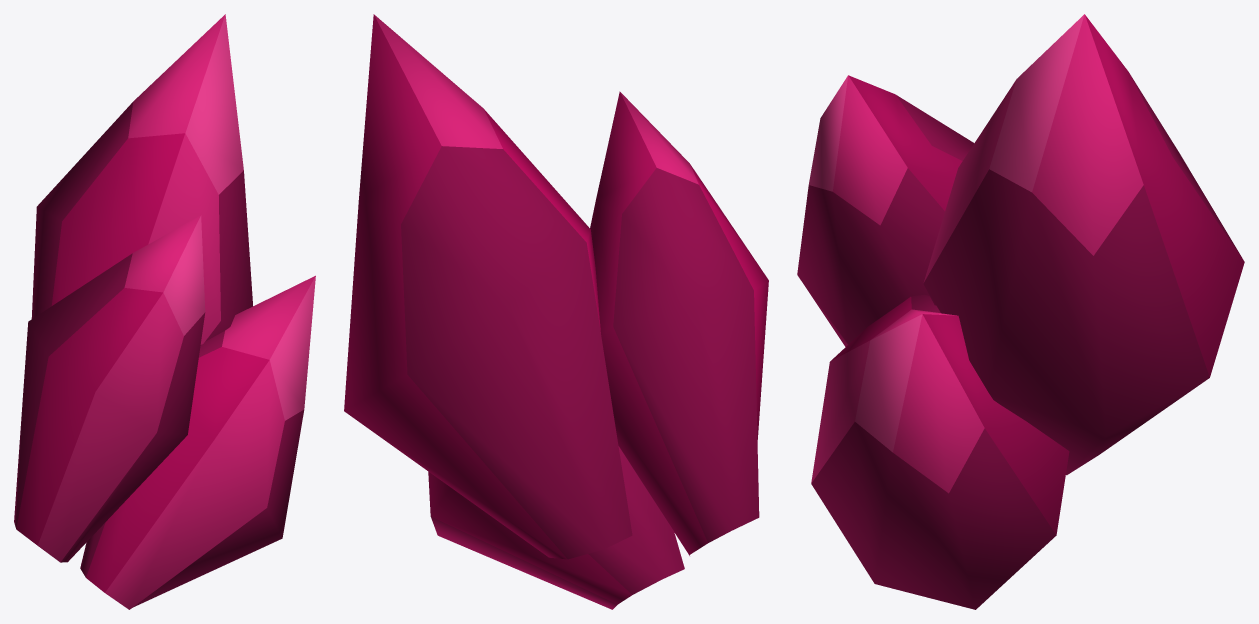
The model's file is natureuniverse_portalruby_portalruby_original.glb.
3 renders of one model, left to right at view 1: azimuth 30°, elevation 25°; view 2: azimuth 150°, elevation 25°; view 3: azimuth 270°, elevation 25°, orthographic. The views are drawn at different scales.
Parts seen in each view (by area): view 1: PortalRuby; view 2: PortalRuby; view 3: PortalRuby.
Boxes of the visible parts, left/top/right/bottom form: PortalRuby: left=14, top=14, right=315, bottom=609; PortalRuby: left=344, top=14, right=768, bottom=609; PortalRuby: left=797, top=14, right=1244, bottom=609.
Bounding box in the file's own units: 1.51 × 2.5 × 1.55.
Materials: 1 (1 with a texture image).
